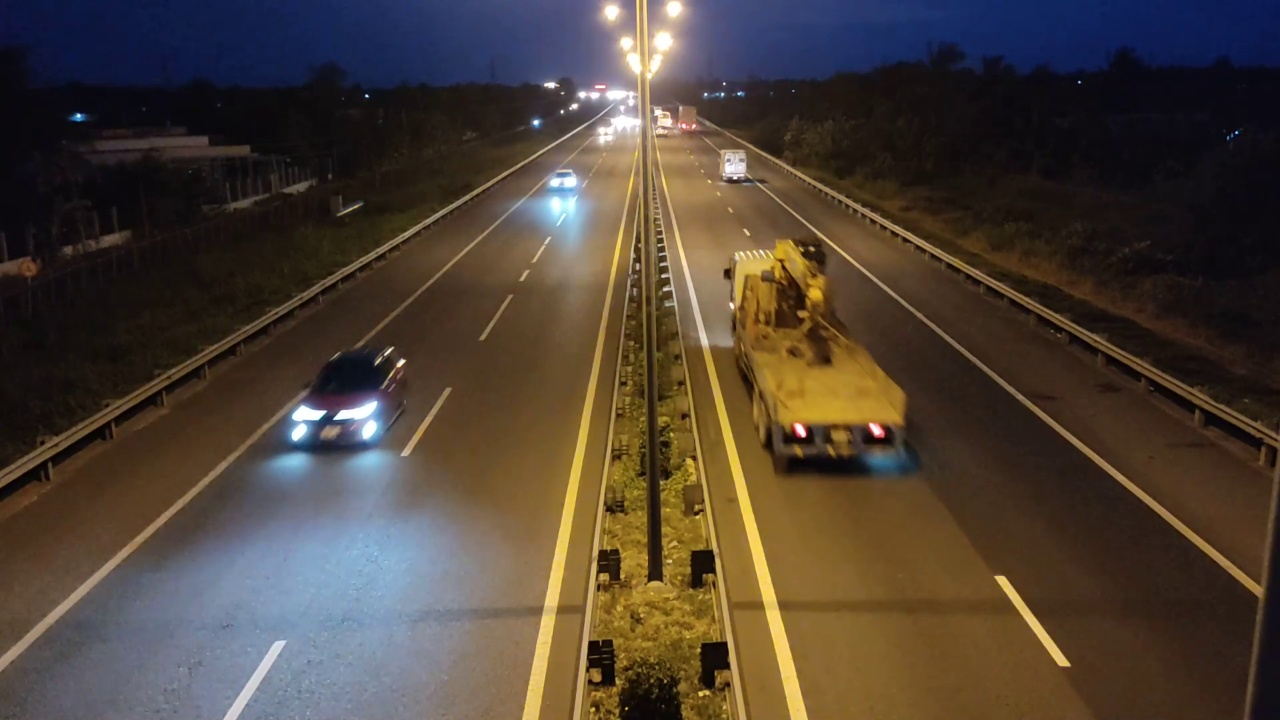car: (286, 345, 409, 450)
truck: (724, 238, 919, 478)
